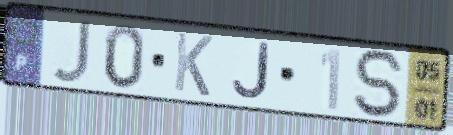0: (102, 22, 148, 92)
1: (318, 45, 344, 112)
J: (49, 19, 95, 86), (230, 40, 272, 101)
K: (171, 29, 216, 100)
S: (351, 47, 408, 121)
